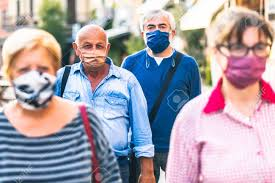with-mask: (203, 5, 275, 91), (5, 33, 67, 114), (70, 21, 116, 76), (138, 8, 181, 59)
